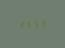five: (25, 20, 31, 28), (32, 19, 38, 27)
three: (39, 19, 45, 27)
two: (18, 20, 24, 28)
